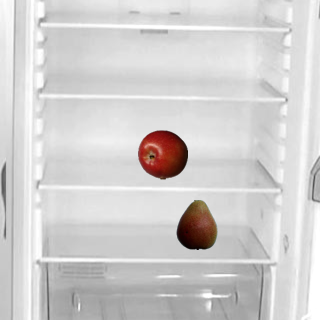Apple Braeburn: (137, 129, 187, 179)
Pear Forelle: (171, 199, 221, 249)
